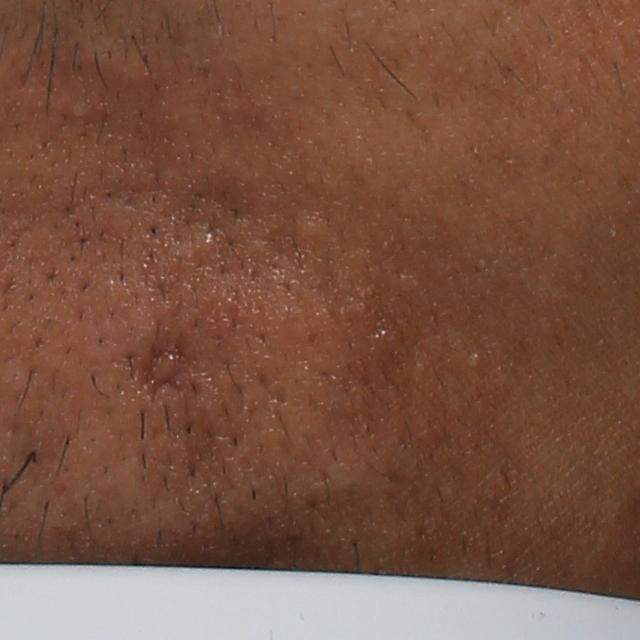atrophic_scar: (135, 347, 187, 398)
